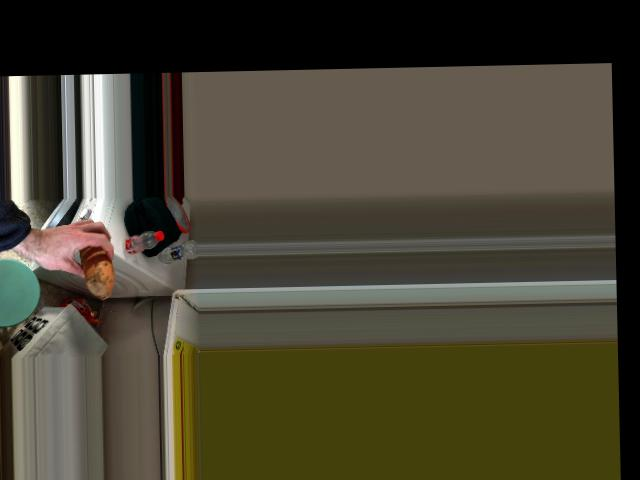sweet_potato: (71, 240, 117, 286)
